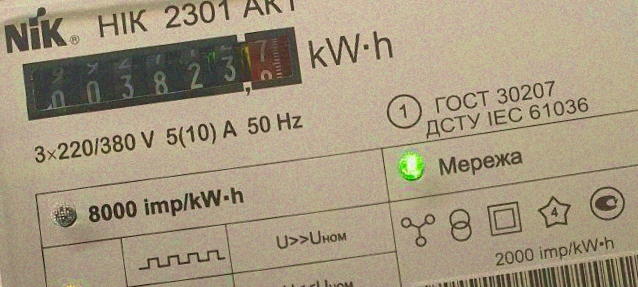0: (79, 74, 103, 104), (46, 84, 67, 109)
2: (183, 57, 206, 91)
3: (115, 68, 137, 100), (217, 51, 239, 83)
7: (252, 36, 272, 66)
8: (148, 65, 169, 96)
9: (45, 63, 66, 84)
screen: (12, 16, 307, 130)
